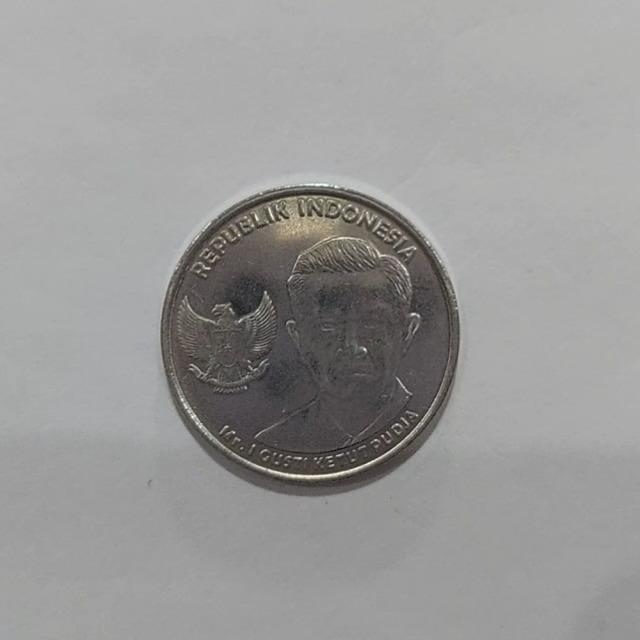Rp100: (158, 180, 461, 489), (248, 232, 424, 454), (172, 275, 280, 395)
